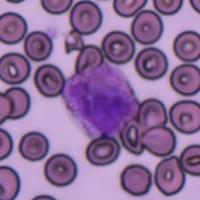E: (61, 62, 138, 140)
